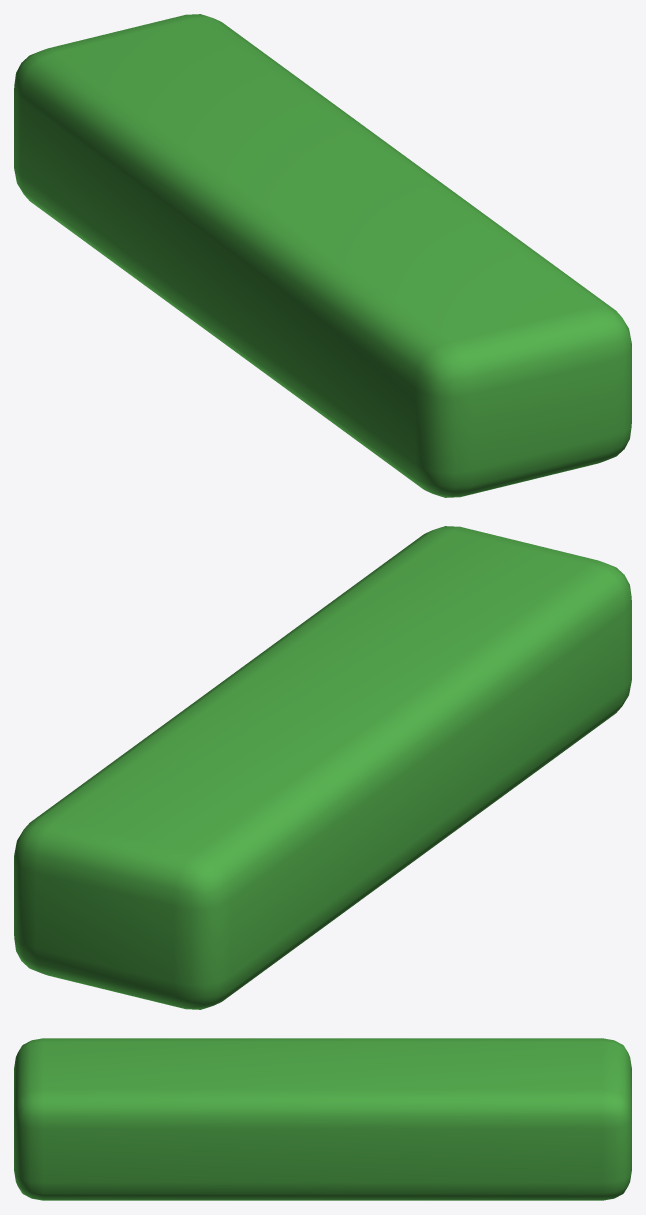
The model's file is ground_type_07.FBX.
3 renders of one model, top to bottom at view 1: azimuth 30°, elevation 25°; view 2: azimuth 150°, elevation 25°; view 3: azimuth 270°, elevation 25°, orthographic. The views are drawn at different scales.
Visible parts, largest first — view 1: ground_type_07; view 2: ground_type_07; view 3: ground_type_07.
Boxes of the visible parts, x1=… form: ground_type_07: x1=14, y1=14, x2=631, y2=497; ground_type_07: x1=14, y1=526, x2=631, y2=1009; ground_type_07: x1=14, y1=1038, x2=631, y2=1200.
Bounding box in the file's own units: 580 × 2087 × 400.
1 material, 1 textured.
